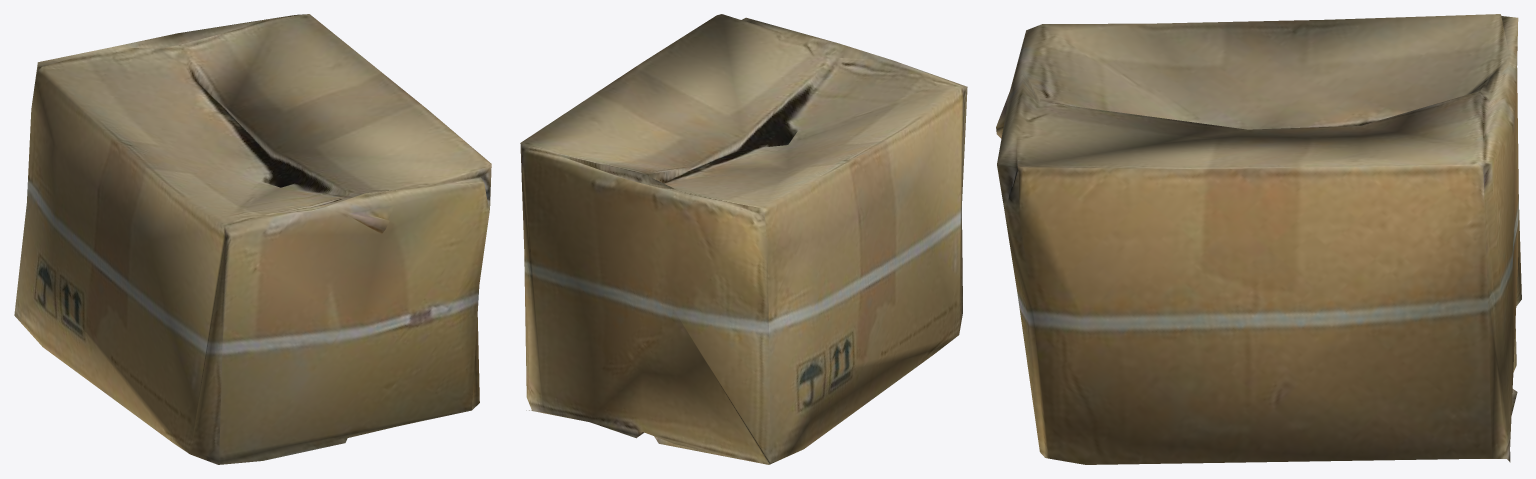
The picture shows the model from 3 angles, left to right: view 1: azimuth 30°, elevation 25°; view 2: azimuth 150°, elevation 25°; view 3: azimuth 270°, elevation 25°; orthographic projection. The views are drawn at different scales.
Parts seen in each view (by area): view 1: cardboard_box_01; view 2: cardboard_box_01; view 3: cardboard_box_01.
Boxes of the visible parts, <box> form: cardboard_box_01: <box>14,14,491,464</box>; cardboard_box_01: <box>520,14,967,464</box>; cardboard_box_01: <box>996,14,1521,464</box>.
Bounding box in the file's own units: 0.3816 × 0.3387 × 0.5159.
Materials: 1 (1 with a texture image).
